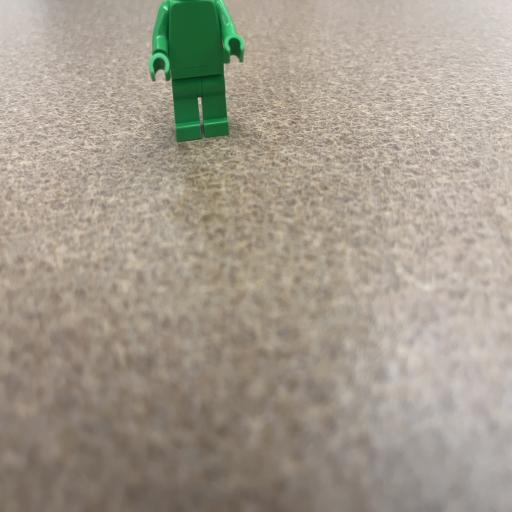Lego-Minifig: (149, 0, 244, 141)
